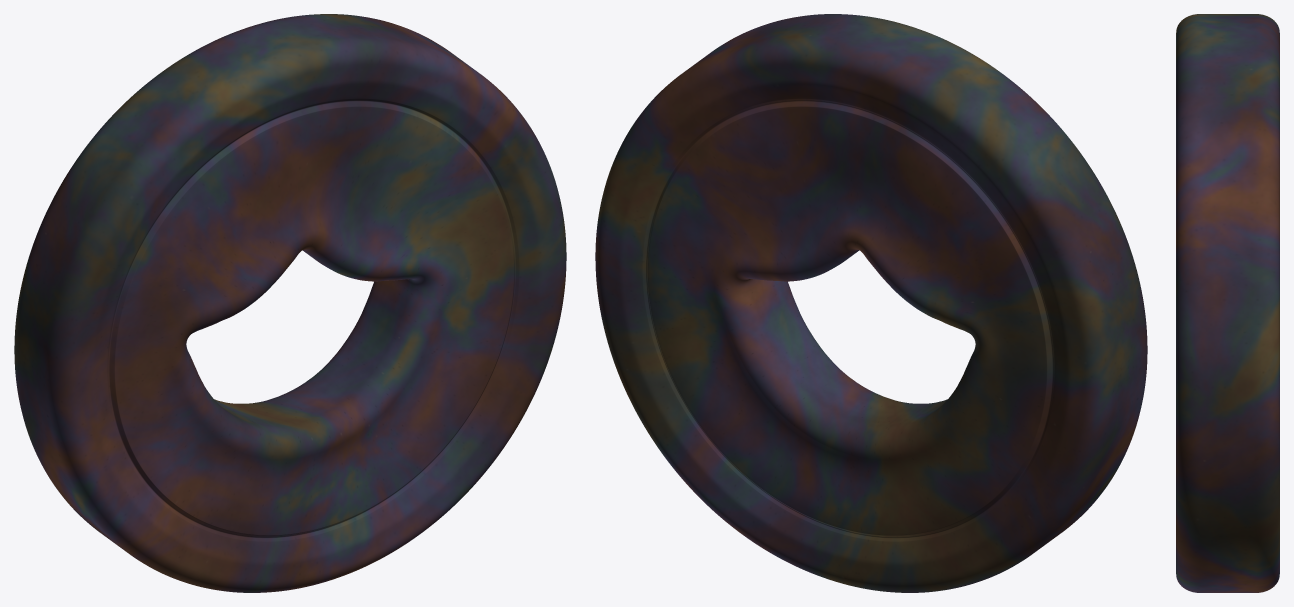
The model's file is coin-hole.glb.
3 renders of one model, left to right at view 1: azimuth 30°, elevation 25°; view 2: azimuth 150°, elevation 25°; view 3: azimuth 270°, elevation 25°, orthographic. The views are drawn at different scales.
Visible parts, largest first — view 1: Coin; view 2: Coin; view 3: Coin.
Part boxes in pixels (left/top/right/bottom): Coin: left=14, top=14, right=566, bottom=592; Coin: left=595, top=14, right=1147, bottom=592; Coin: left=1176, top=14, right=1279, bottom=592.
Bounding box in the file's own units: 0.04 × 0.04 × 0.00716.
1 material, 1 textured.
